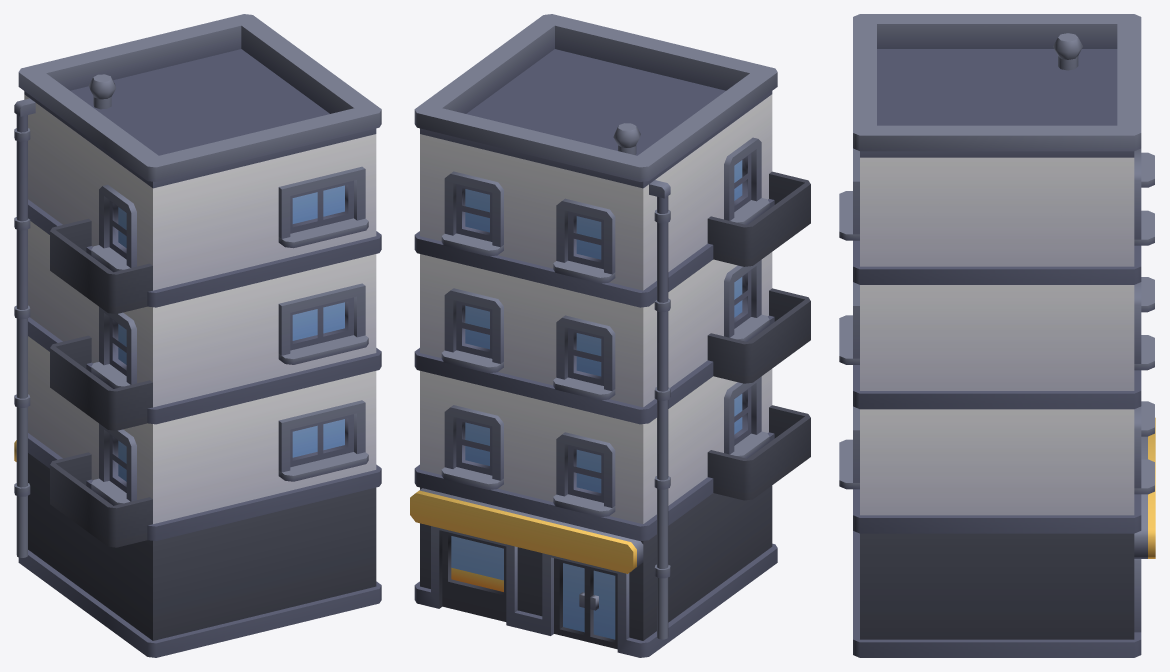
Rendered from commercial-building-g.glb.
3 renders of one model, left to right at view 1: azimuth 30°, elevation 25°; view 2: azimuth 150°, elevation 25°; view 3: azimuth 270°, elevation 25°, orthographic. The views are drawn at different scales.
Parts seen in each view (by area): view 1: building-g; view 2: building-g; view 3: building-g.
Boxes of the visible parts, bbox=[...] form: building-g: bbox=[14, 14, 381, 657]; building-g: bbox=[410, 14, 810, 657]; building-g: bbox=[839, 14, 1155, 657].
Size of the model in its own units: 0.97 by 1.69 by 0.9221.
1 material, 1 textured.
